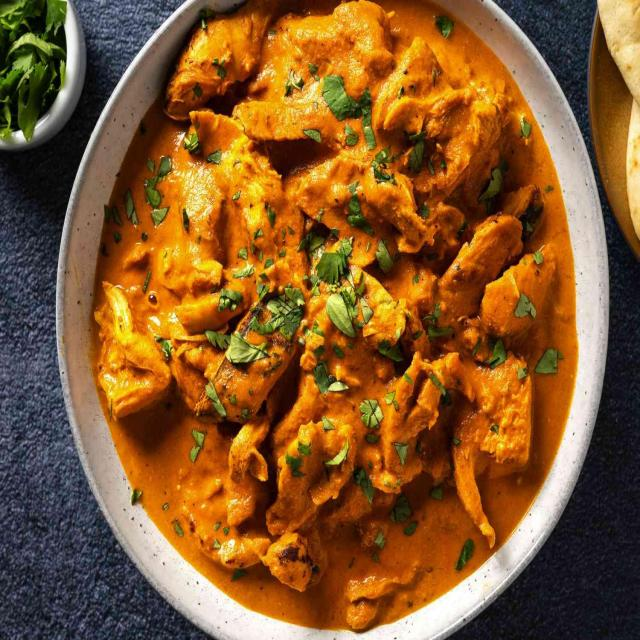chicken: (116, 32, 592, 610)
